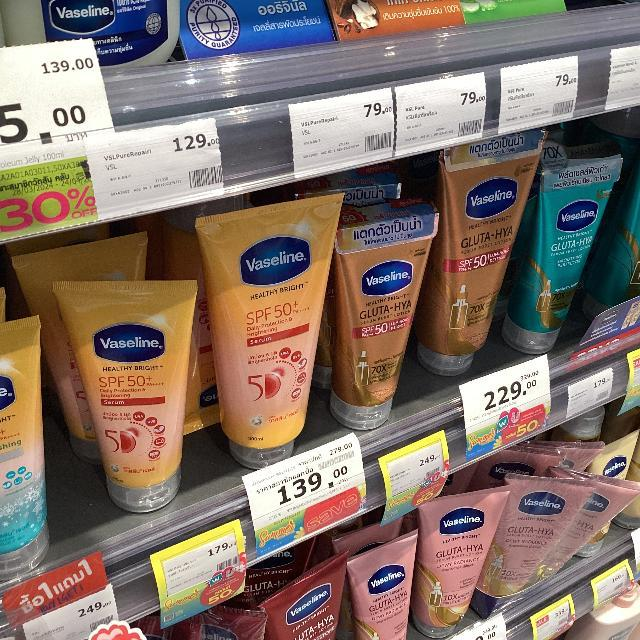Squeeze Tube: (43, 262, 214, 534), (193, 182, 330, 472), (312, 196, 427, 448), (396, 473, 492, 640), (497, 462, 606, 586)
